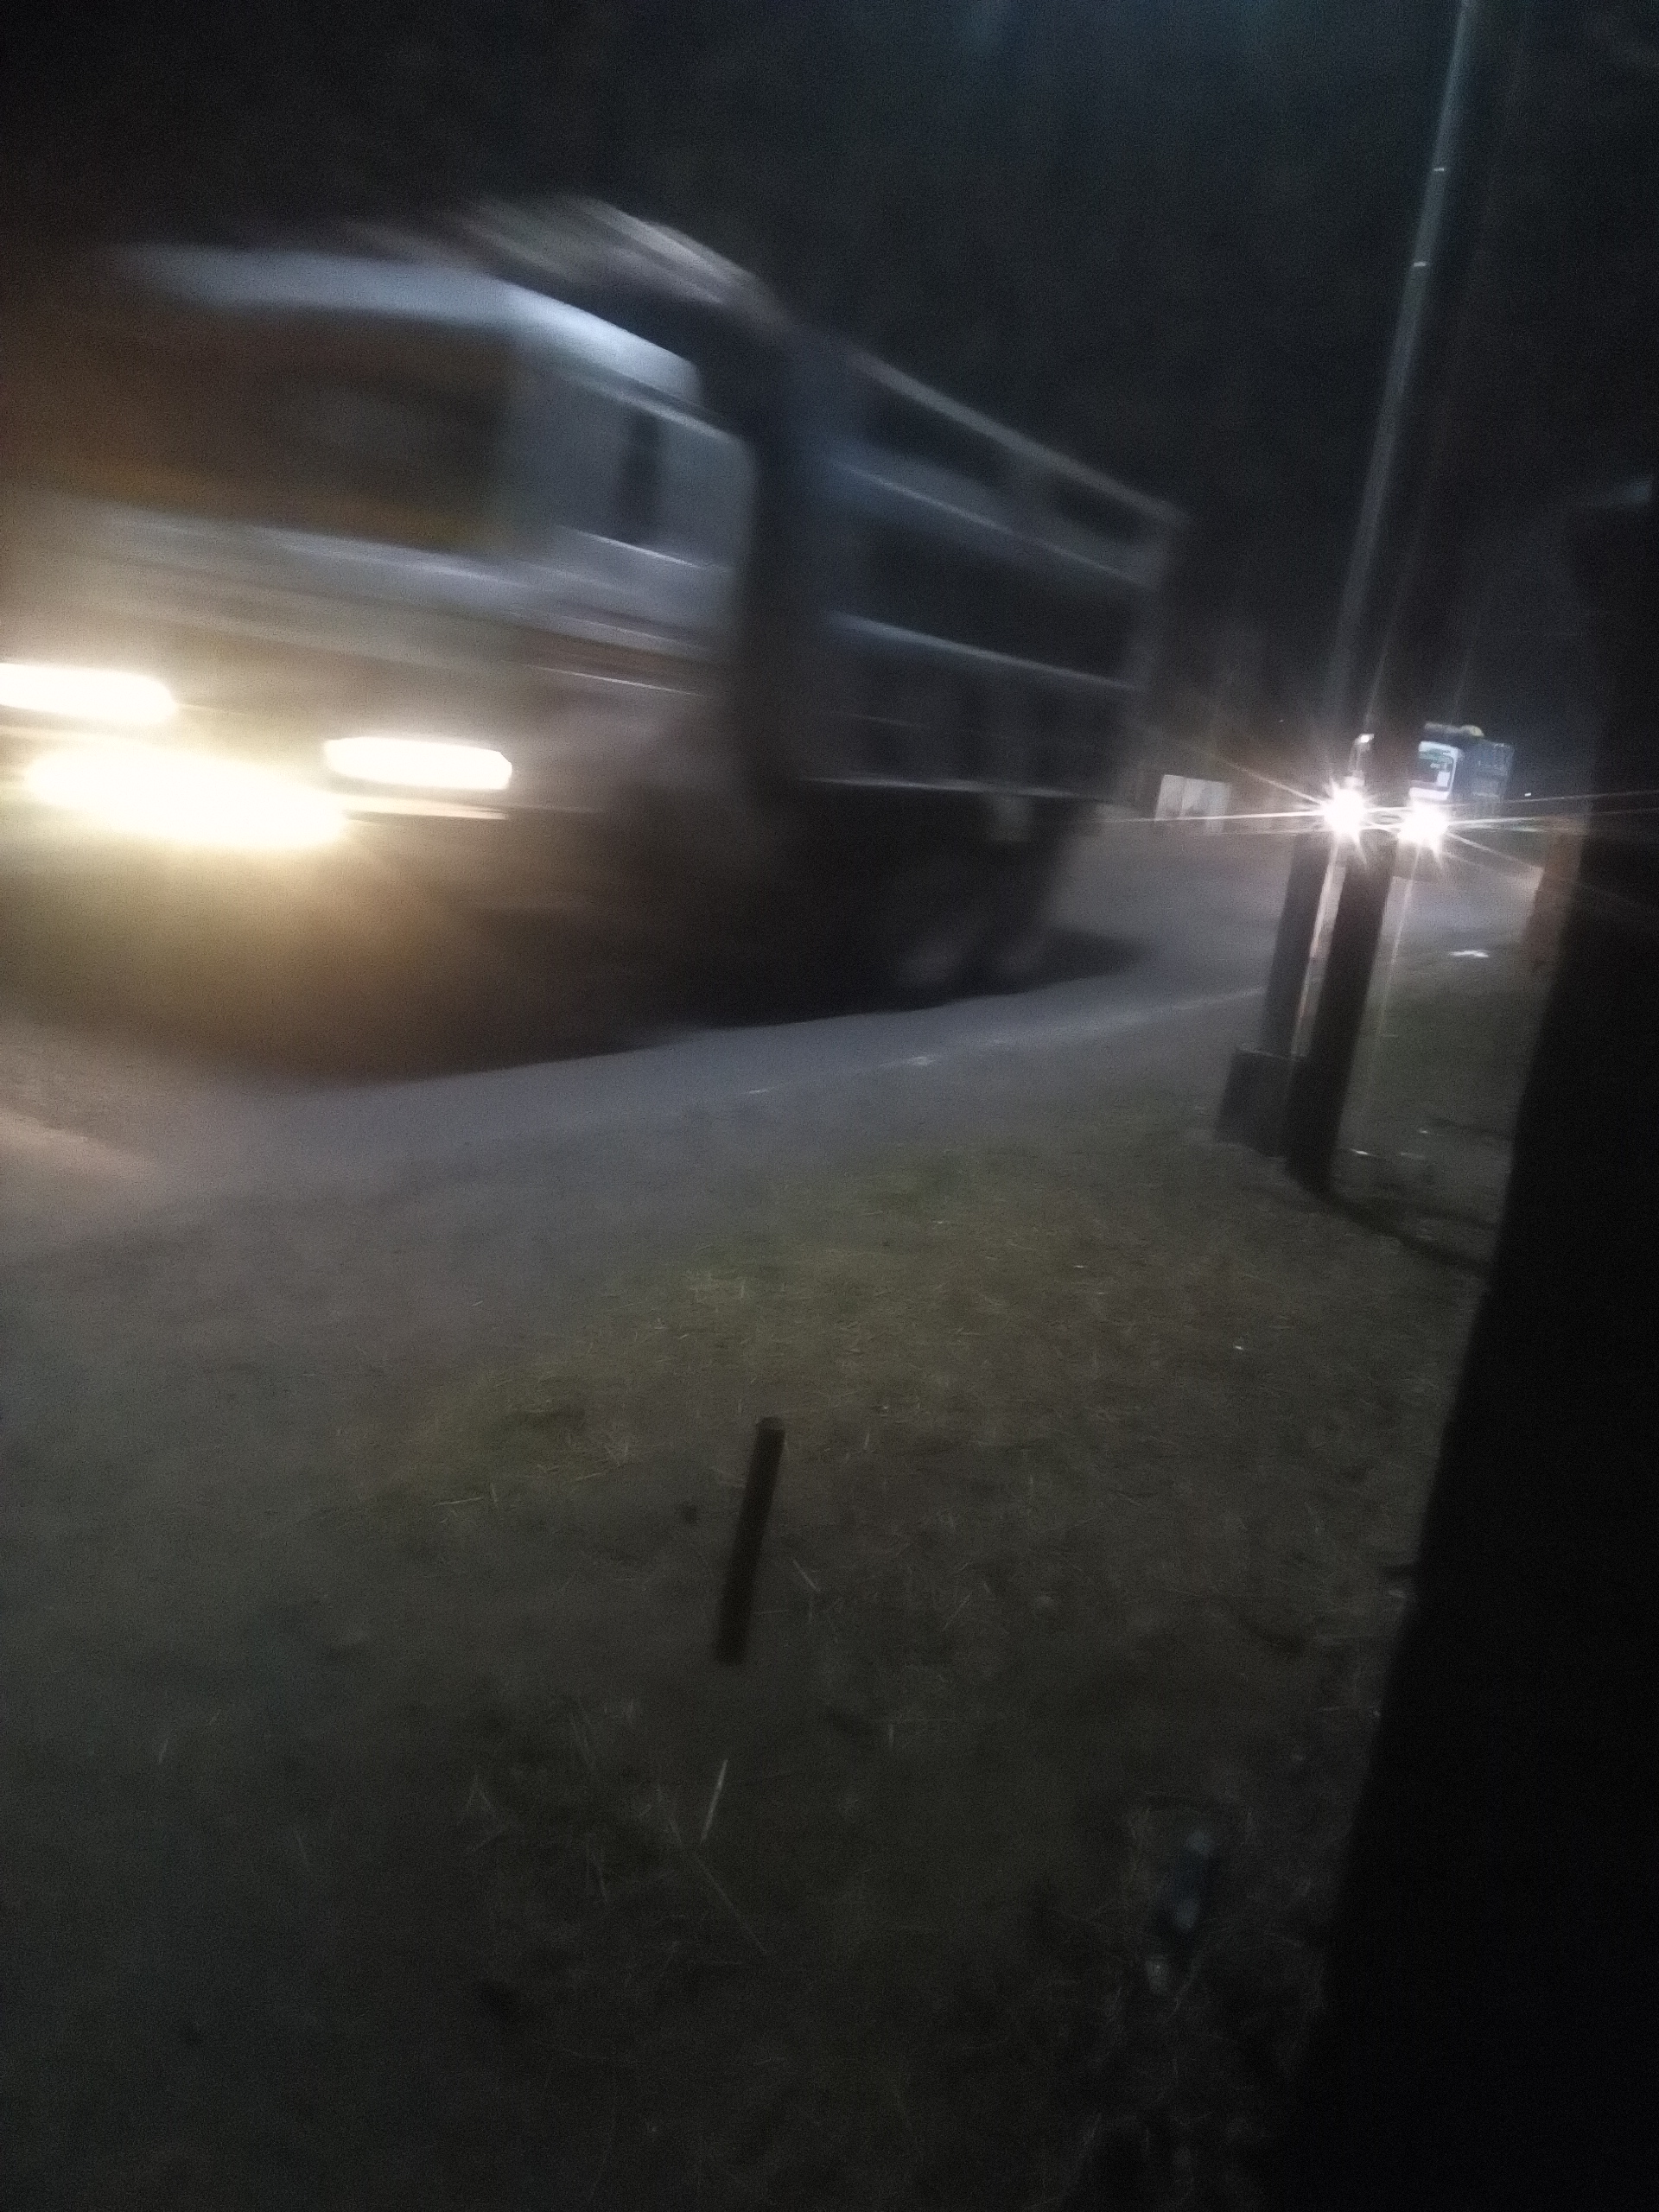truck: (0, 178, 1195, 1066), (1347, 718, 1518, 880)
